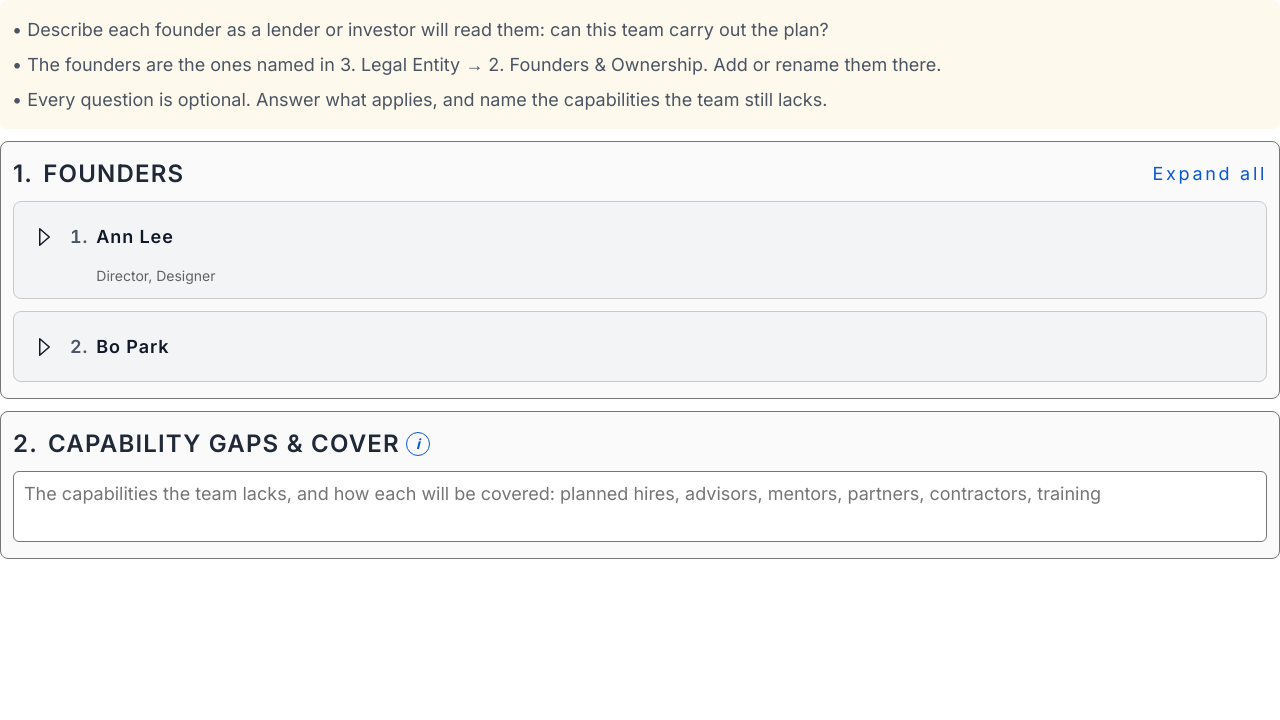
FoundersProfileEditor founders › starts the cards folded, with the roles under the name, and folds them all at once
Expected: the heading "1. Founders" is shown, [13, 158, 184, 189]
Click the button with aria-label "Expand all founders": point(1210, 175) [1152, 163, 1267, 187]
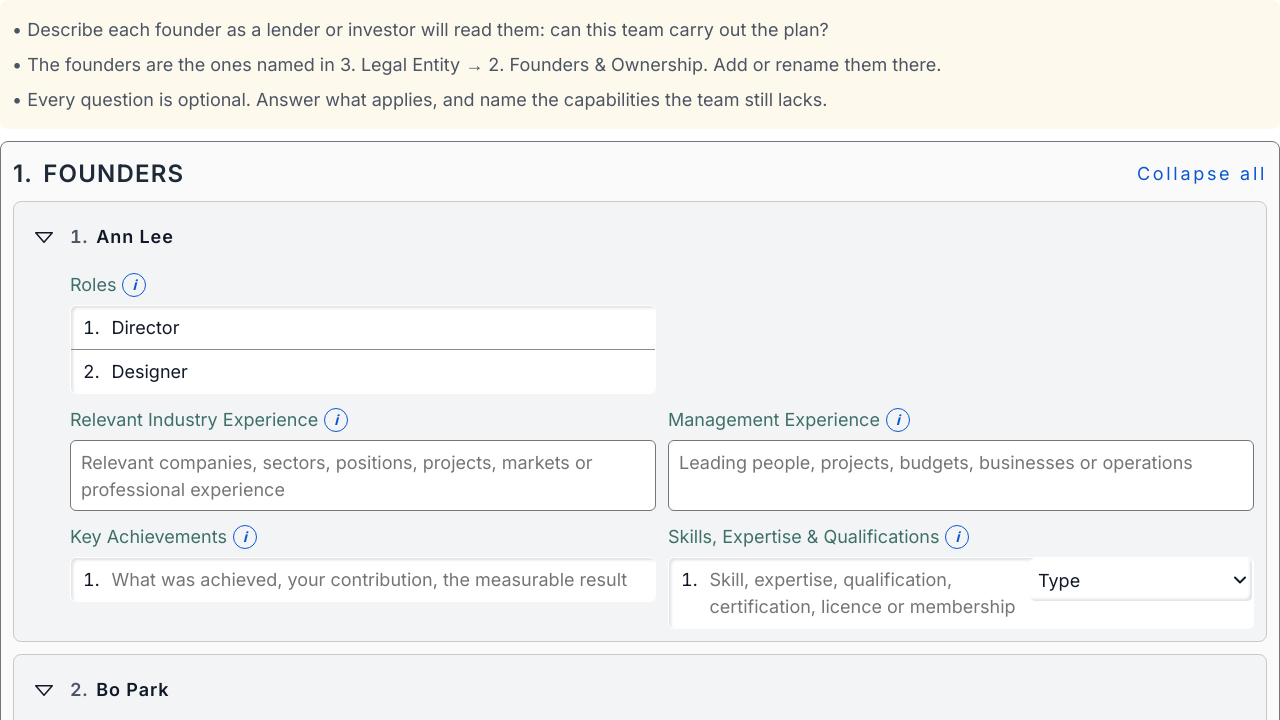
Expected: the button "▾" in the row of "Ann Lee" is expanded, [26, 219, 62, 255]
Expected: the button "▾" in the row of "Bo Park" is expanded, [26, 672, 62, 708]
Click the button with aria-label "Collapse all founders": point(1202, 175) [1137, 163, 1267, 187]
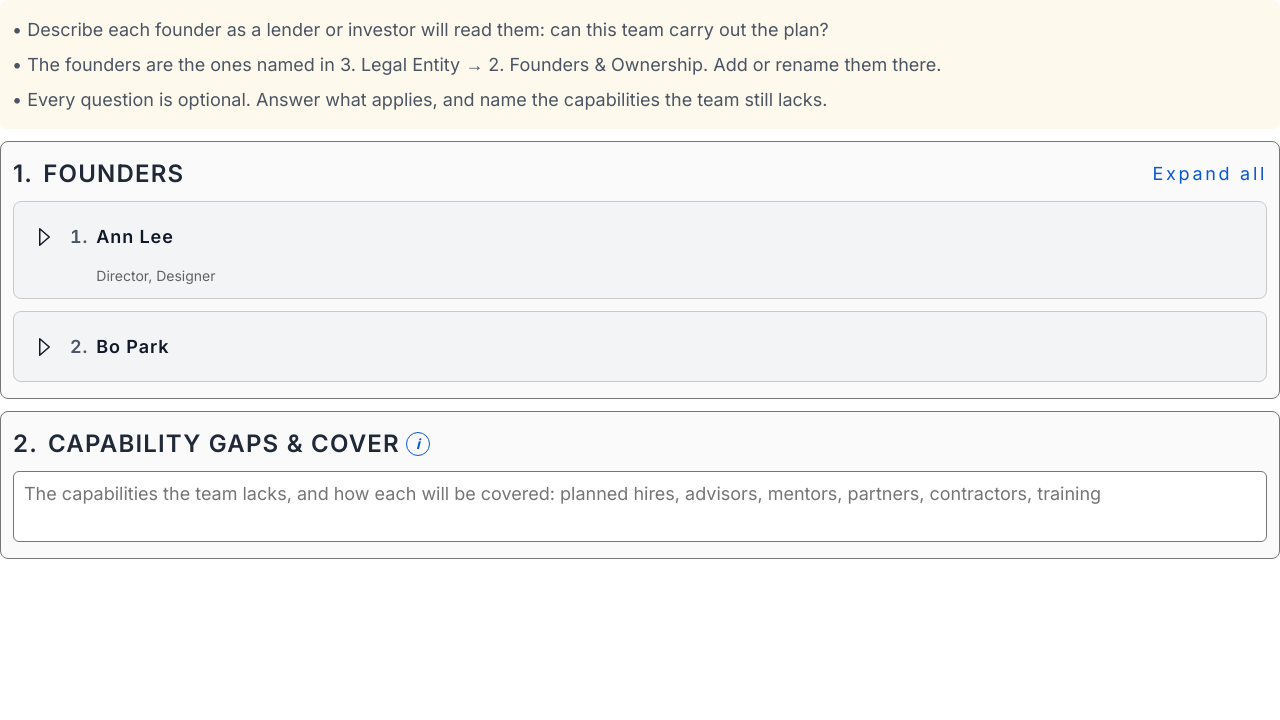
Expected: the button "▸" in the row of "Ann Lee" is collapsed, [26, 219, 62, 255]
Expected: the button "▸" in the row of "Bo Park" is collapsed, [26, 329, 62, 365]
